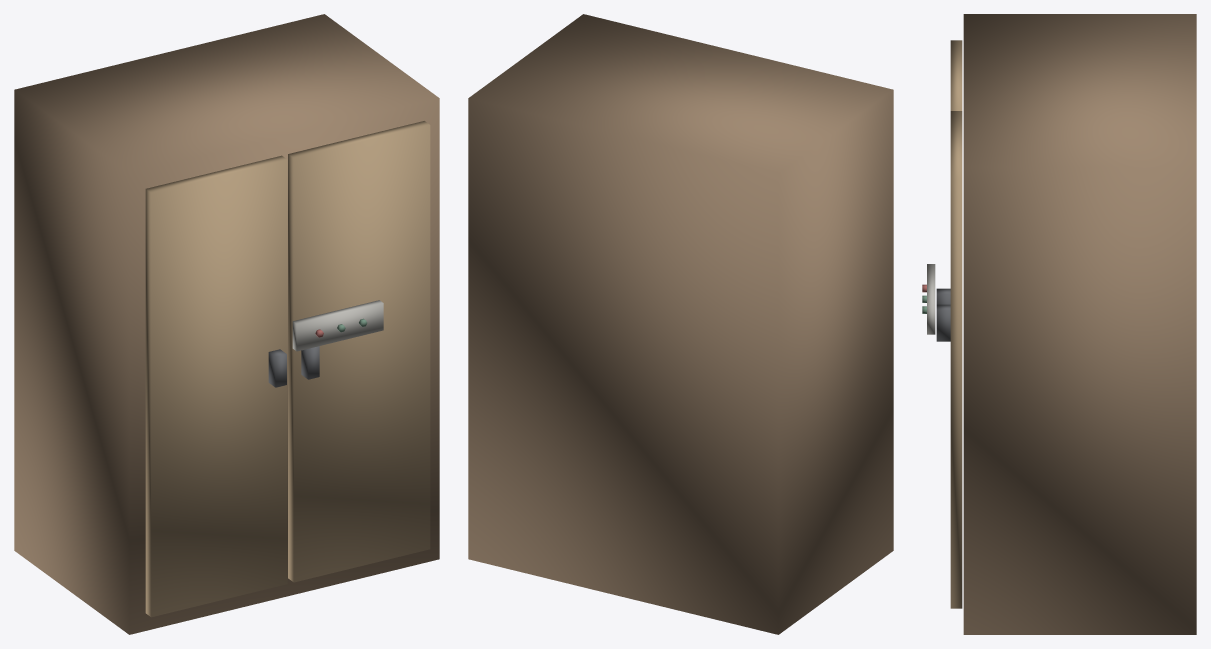
Rendered from map_cabinet__deep.glb.
3 views of the same model, side by side, from view 1: azimuth 30°, elevation 25°; view 2: azimuth 150°, elevation 25°; view 3: azimuth 270°, elevation 25° (orthographic).
Visible parts, largest first — view 1: world; view 2: world; view 3: world.
Part boxes in pixels (x1,y1,x2,y2): world: (14,14,439,634); world: (468,14,893,634); world: (922,14,1196,634).
Bounding box in the file's own units: 0.95 × 1.35 × 0.718.
